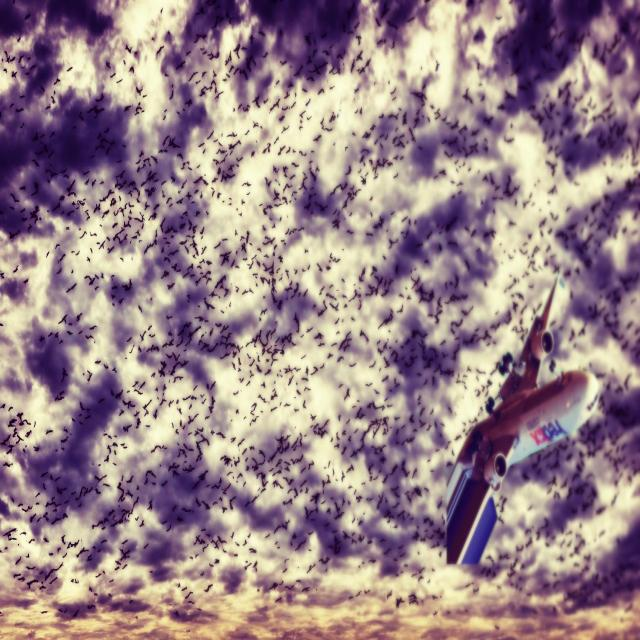airplane: (444, 272, 600, 566)
